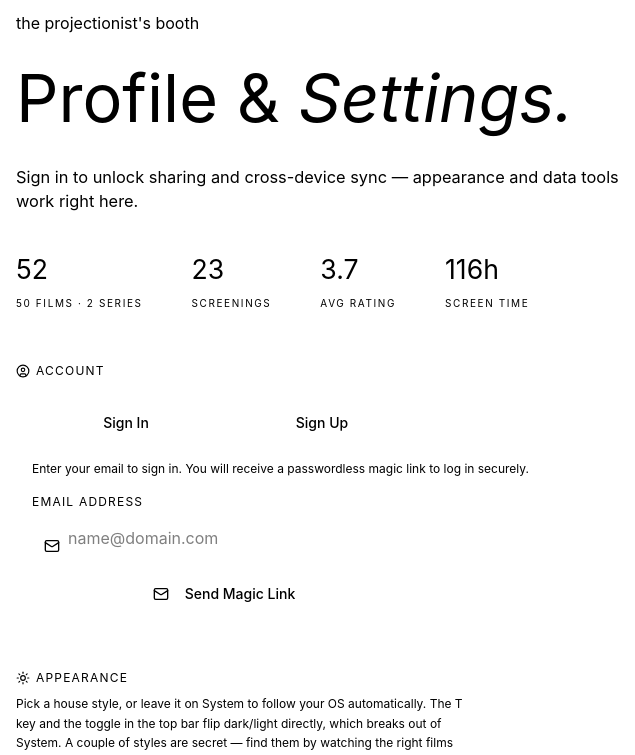
Test: offers the implemented email flow and confirms a link only after sending succeeds
Type "viewer@example.test" into the field labelled "Email Address".
click(224, 538); type("viewer@example.test")  # box [32,518,416,558]
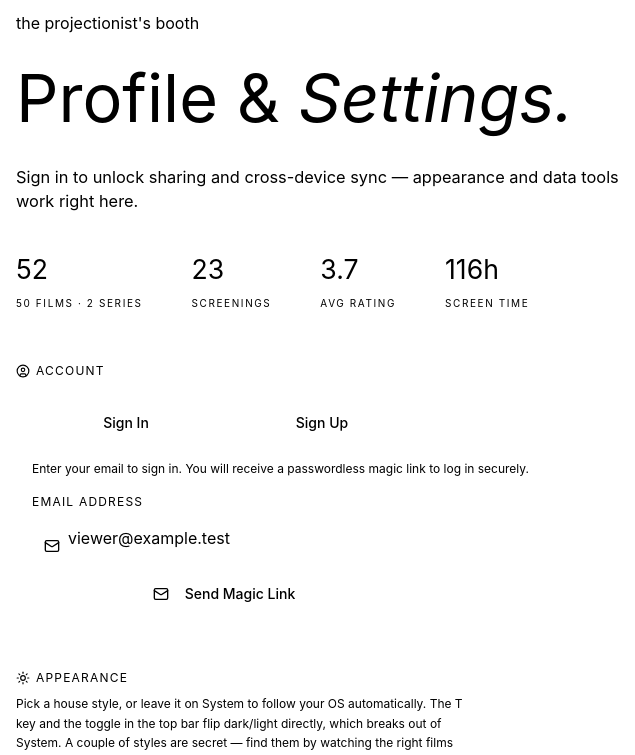
Click the button "Send Magic Link".
click(224, 594)  # box [32,574,416,614]
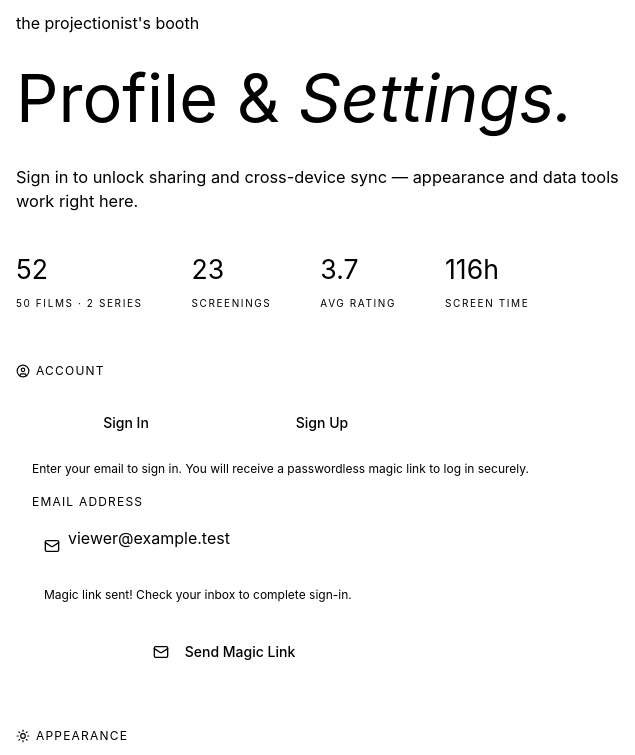
Check: the text "Magic link sent! Check your inbox to complete sign-in." is shown, box [44,587,352,602]
